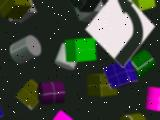Left: (85, 0, 155, 68)
